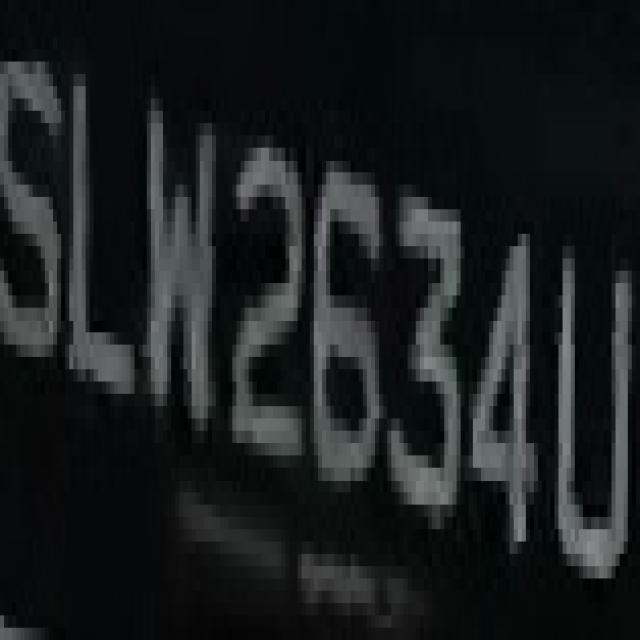2: (216, 86, 314, 529)
3: (387, 148, 461, 566)
4: (461, 148, 542, 615)
6: (318, 135, 395, 554)
L: (69, 25, 139, 443)
S: (12, 0, 70, 406)
U: (550, 197, 636, 615)
W: (139, 61, 228, 492)
